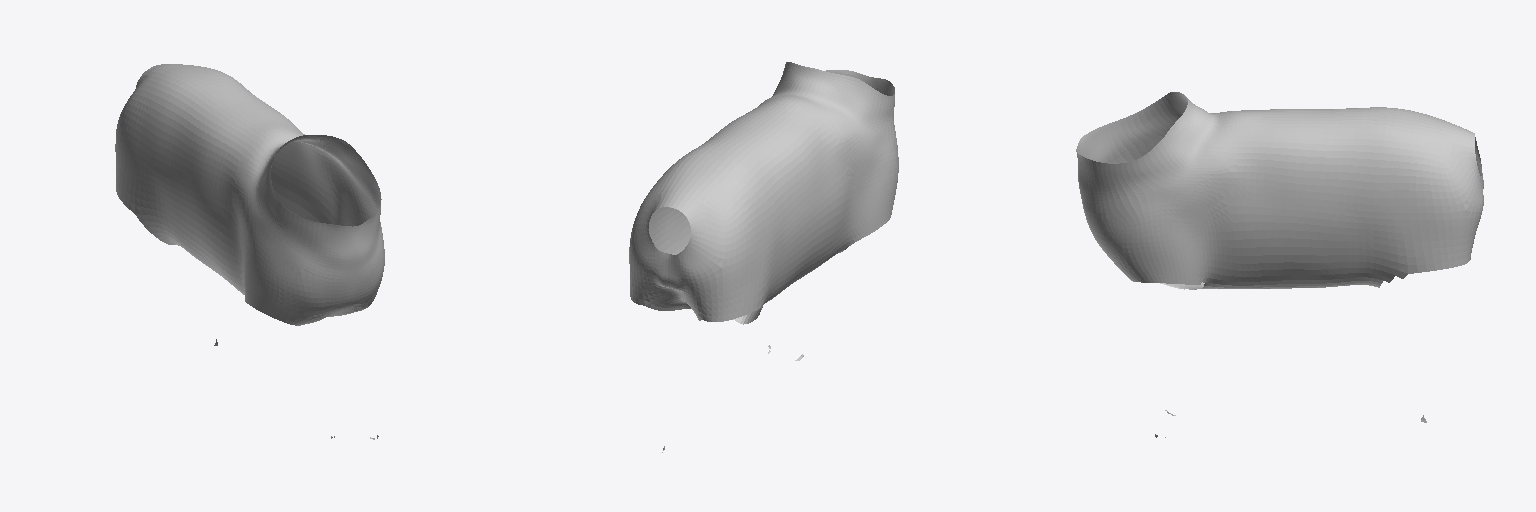
File: body.obj
The picture shows the model from 3 angles: view 1: azimuth 30°, elevation 25°; view 2: azimuth 150°, elevation 25°; view 3: azimuth 270°, elevation 25°; orthographic projection.
Visible parts, largest first — view 1: body; view 2: body; view 3: body.
Part boxes in pixels (x1,y1,x2,y2): body: (115,64,384,439); body: (629,62,898,452); body: (1076,92,1483,437).
Size of the model in its own units: 11.98 by 29.06 by 34.83.